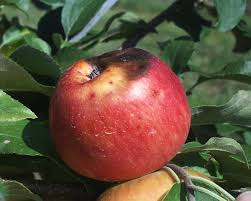damaged_apple: (52, 55, 187, 178)
